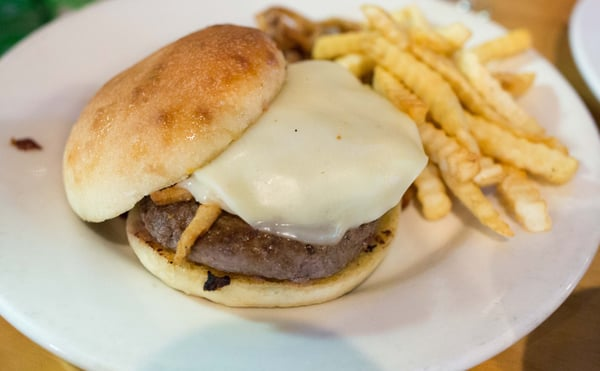soup: (126, 53, 431, 309)
